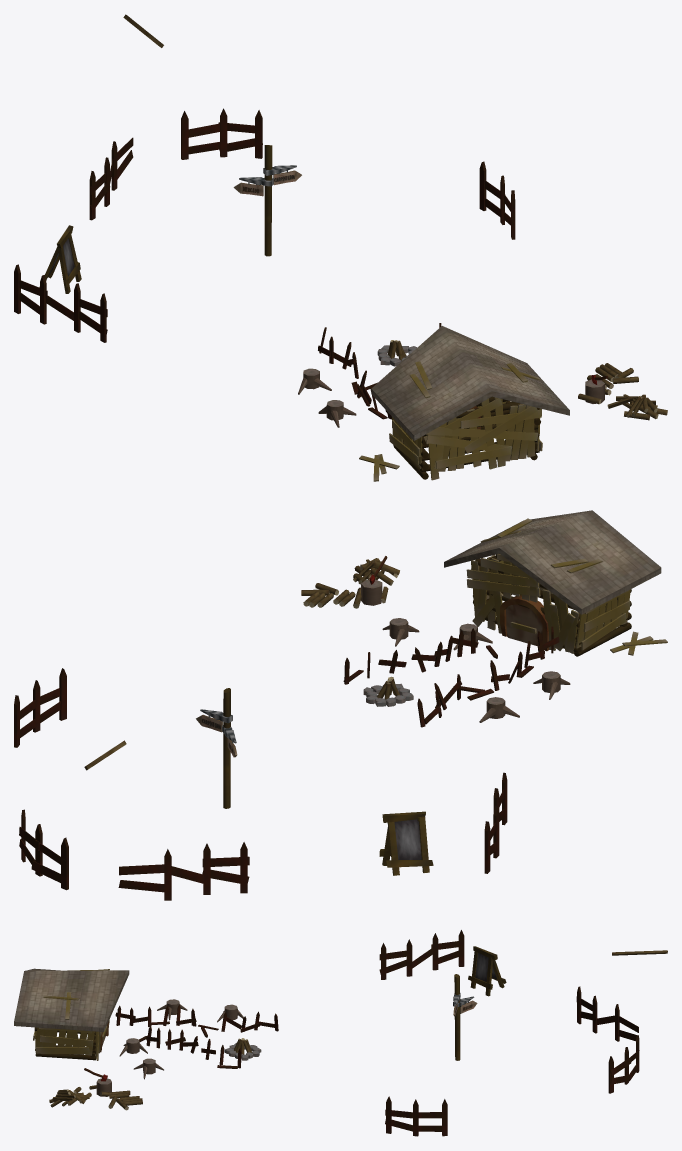
The model's file is german_house_5.glb.
3 views of the same model, one above another, from view 1: azimuth 30°, elevation 25°; view 2: azimuth 150°, elevation 25°; view 3: azimuth 270°, elevation 25° (orthographic). The views are drawn at different scales.
Parts seen in each view (by area): view 1: Box766_Material #102_0; view 2: Box766_Material #102_0; view 3: Box766_Material #102_0.
Boxes of the visible parts, x1,y1,x2,y2 form: Box766_Material #102_0: (14, 14, 667, 481); Box766_Material #102_0: (14, 510, 667, 900); Box766_Material #102_0: (14, 930, 667, 1136).
Bounding box in the file's own units: 8.54 × 2.58 × 13.83.
Materials: 1 (1 with a texture image).
